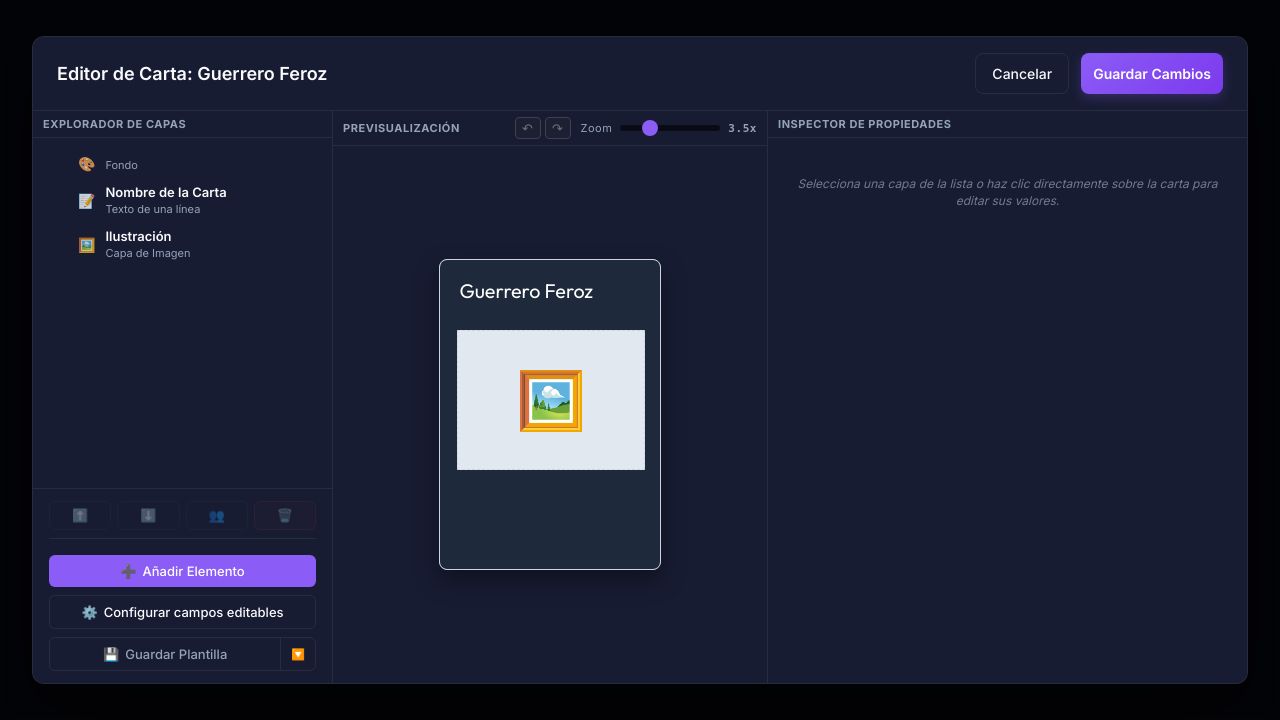
Test: SRS-070: Unificación de Campos en el Inspector del Editor de Cartas › RF-1: renderiza un único bloque de texto sin secciones ni campos duplicados por defecto
// Seleccionar la capa de texto en el árbol de capas
Click the text "Nombre de la Carta" at coordinates (166, 192), box 106,184 -> 227,200
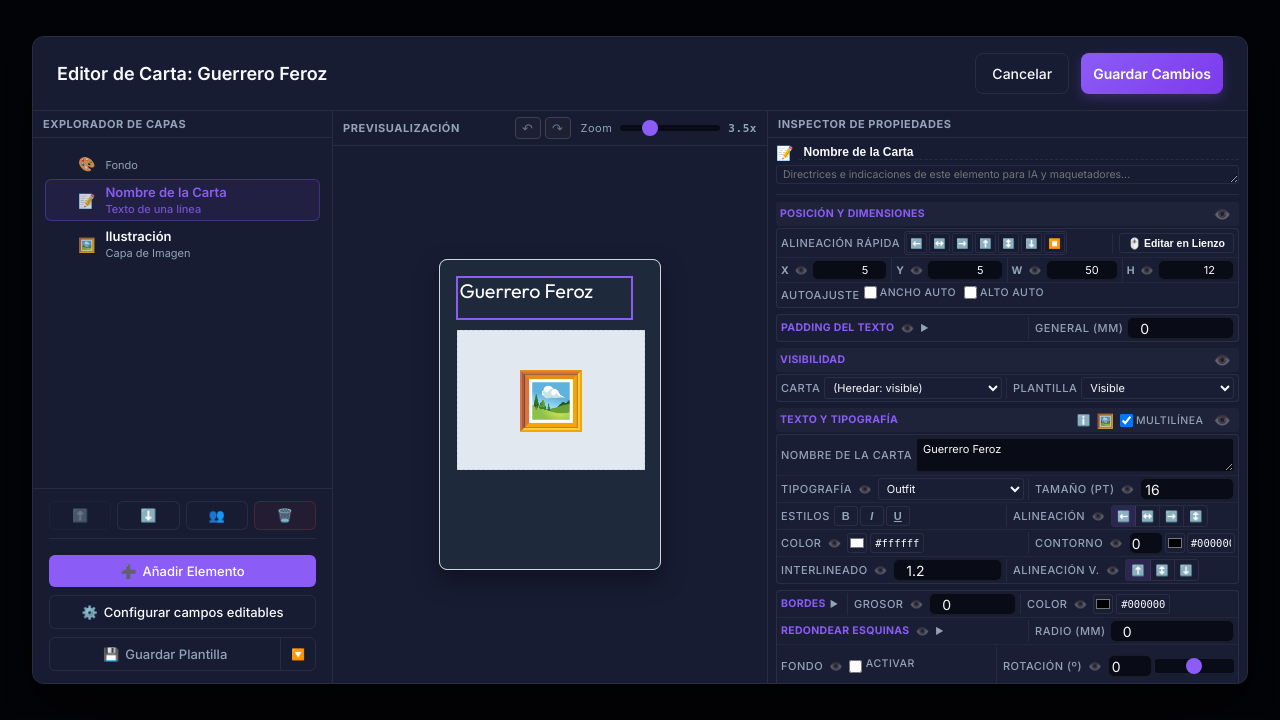
expect the heading "Texto y Tipografía" is shown: met, box 780,414 -> 898,426
expect the text box showing "Guerrero Feroz" is shown: met, box 916,438 -> 1234,472
